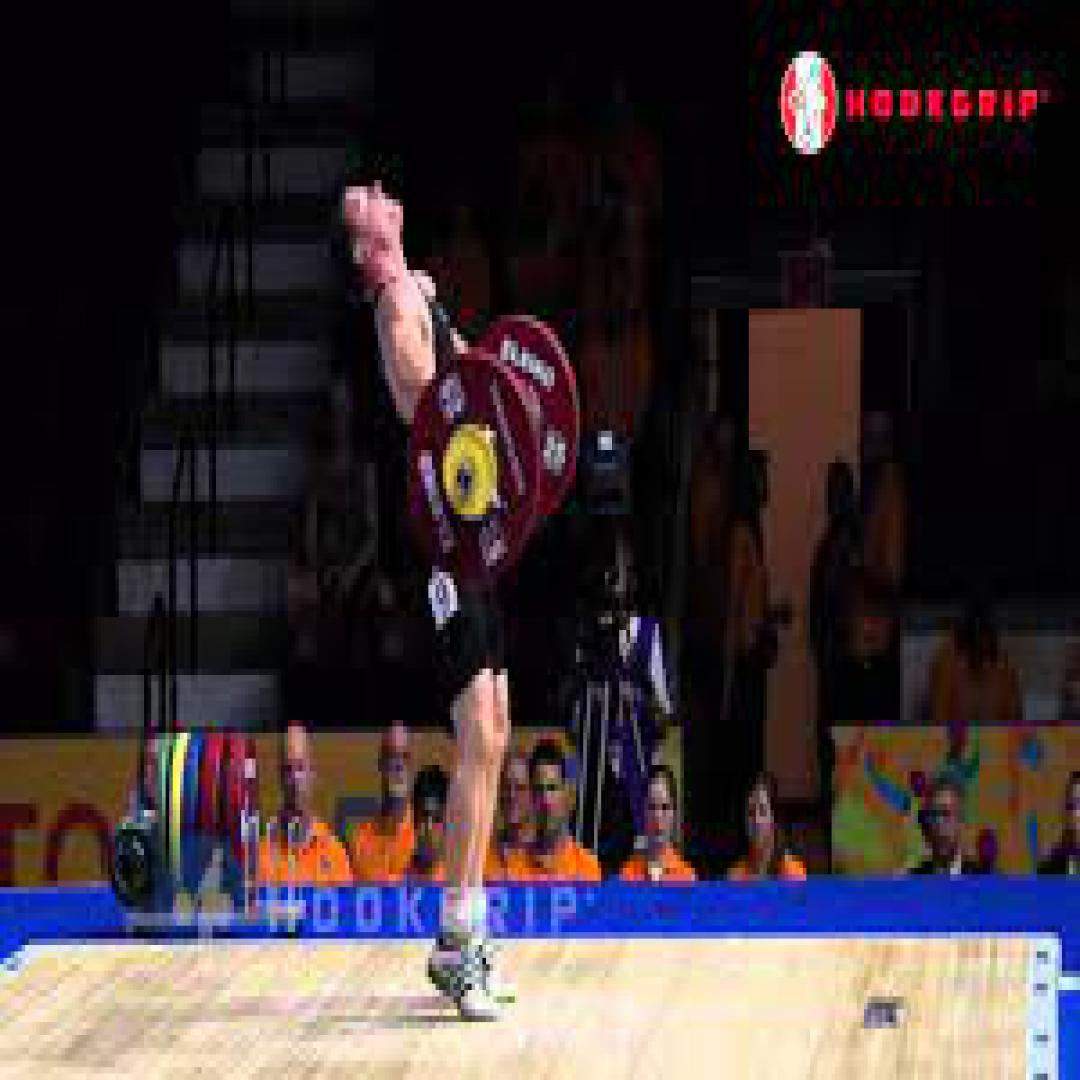Bar: (452, 459, 477, 498)
Barbell: (410, 353, 540, 578)
